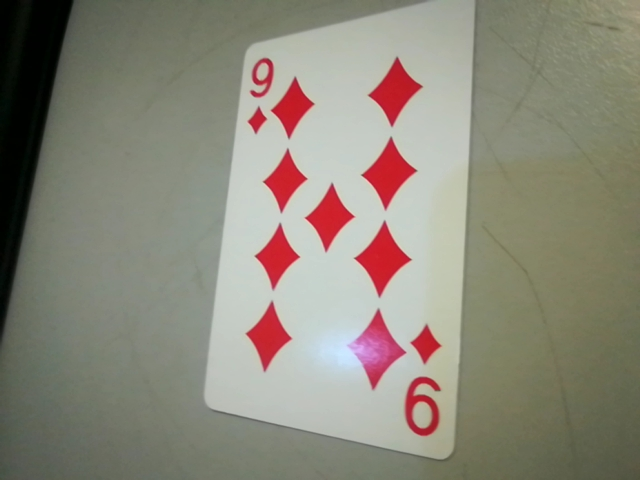fk 9: (391, 320, 456, 449), (231, 51, 284, 140)
